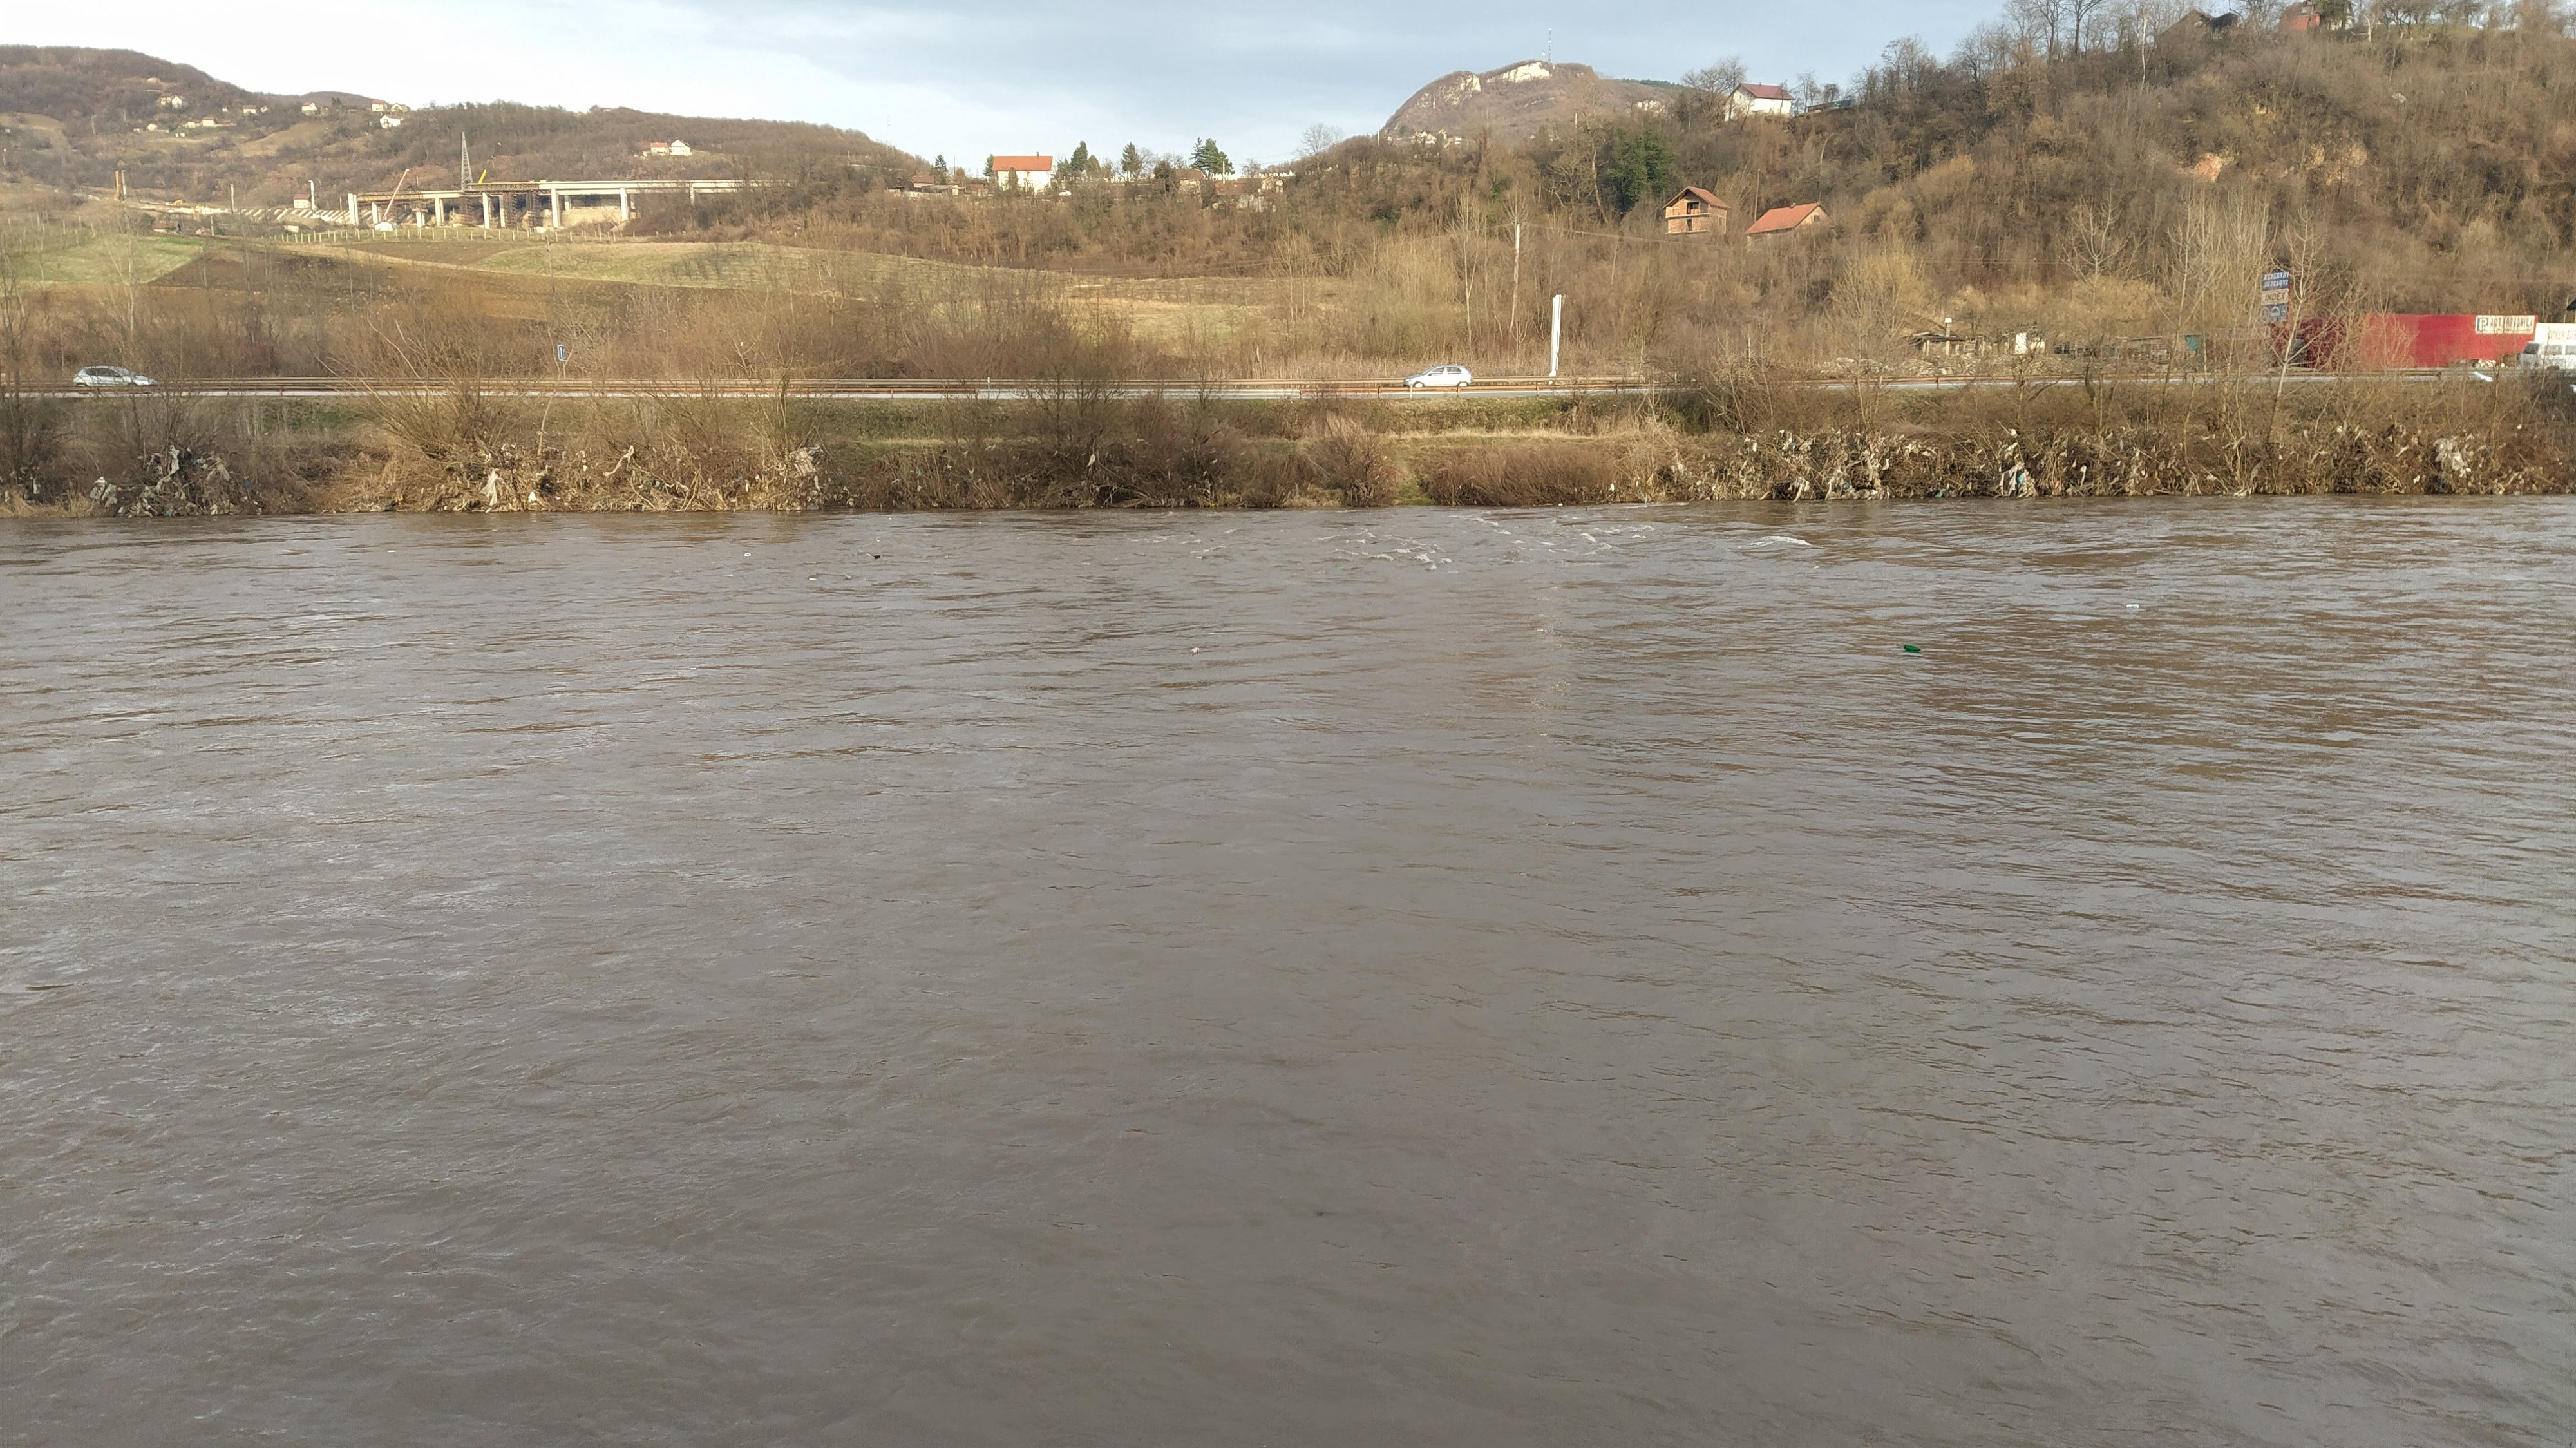Plastic Bottle: (1904, 644, 1920, 653), (2125, 604, 2139, 609), (1191, 646, 1198, 653), (874, 554, 879, 558), (809, 577, 814, 579)
